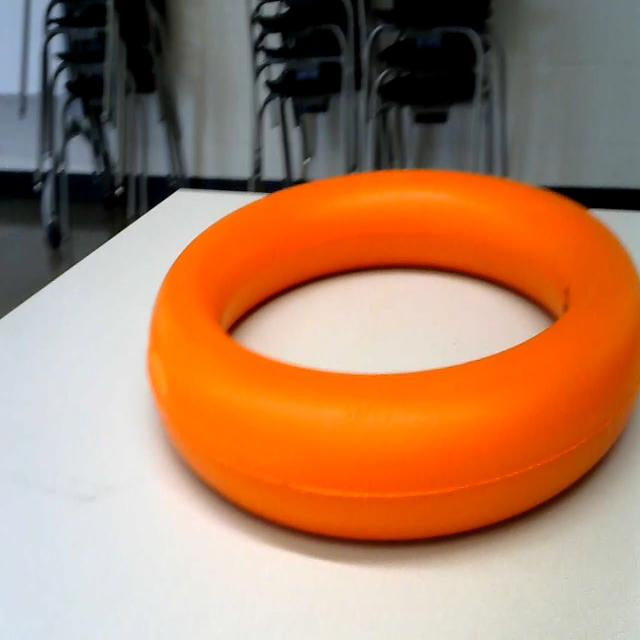note: (127, 145, 640, 556)
